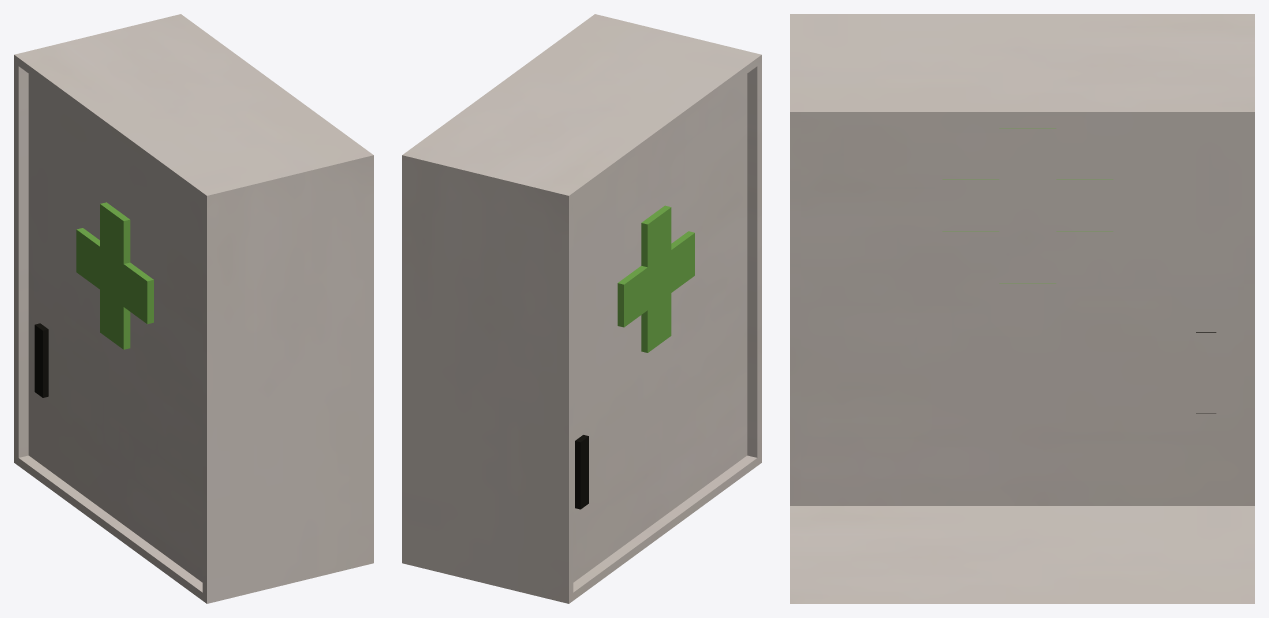
The model's file is Aptechka.fbx.
3 views of the same model, side by side, from view 1: azimuth 30°, elevation 25°; view 2: azimuth 150°, elevation 25°; view 3: azimuth 270°, elevation 25° (orthographic). The views are drawn at different scales.
Parts seen in each view (by area): view 1: MedBoxKey; view 2: MedBoxKey; view 3: MedBoxKey.
Part boxes in pixels (x1,y1,x2,y2): MedBoxKey: (14, 14, 373, 603); MedBoxKey: (402, 14, 761, 603); MedBoxKey: (790, 14, 1254, 603).
Bounding box in the file's own units: 31.46 × 73.53 × 63.
